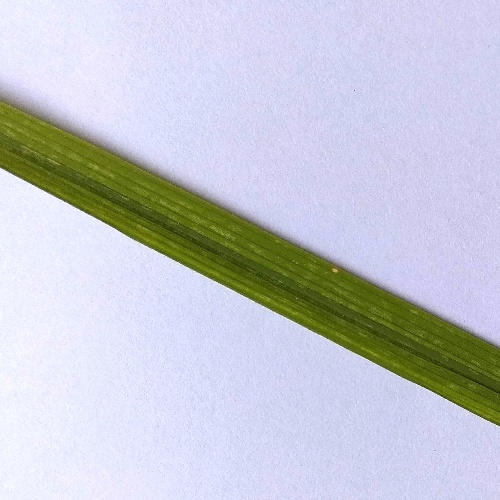Busuk Leher: (329, 261, 345, 277)
